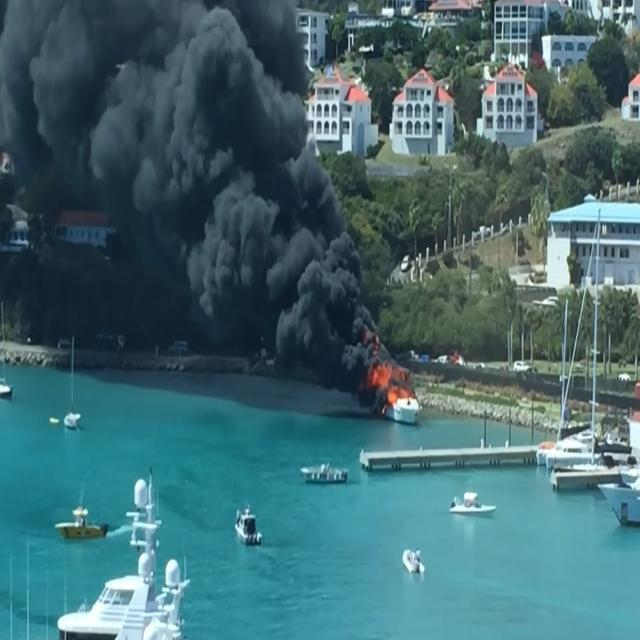Smoke: (1, 3, 309, 182), (144, 6, 298, 326), (180, 162, 345, 342), (277, 217, 364, 369)
